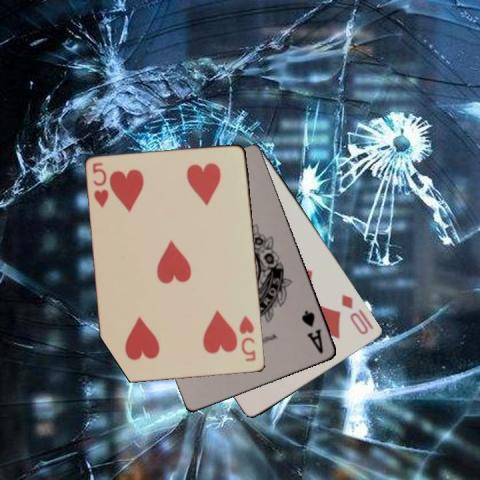10d: (339, 291, 370, 336)
5h: (90, 160, 111, 209), (237, 313, 257, 363)
As: (299, 308, 325, 356)
